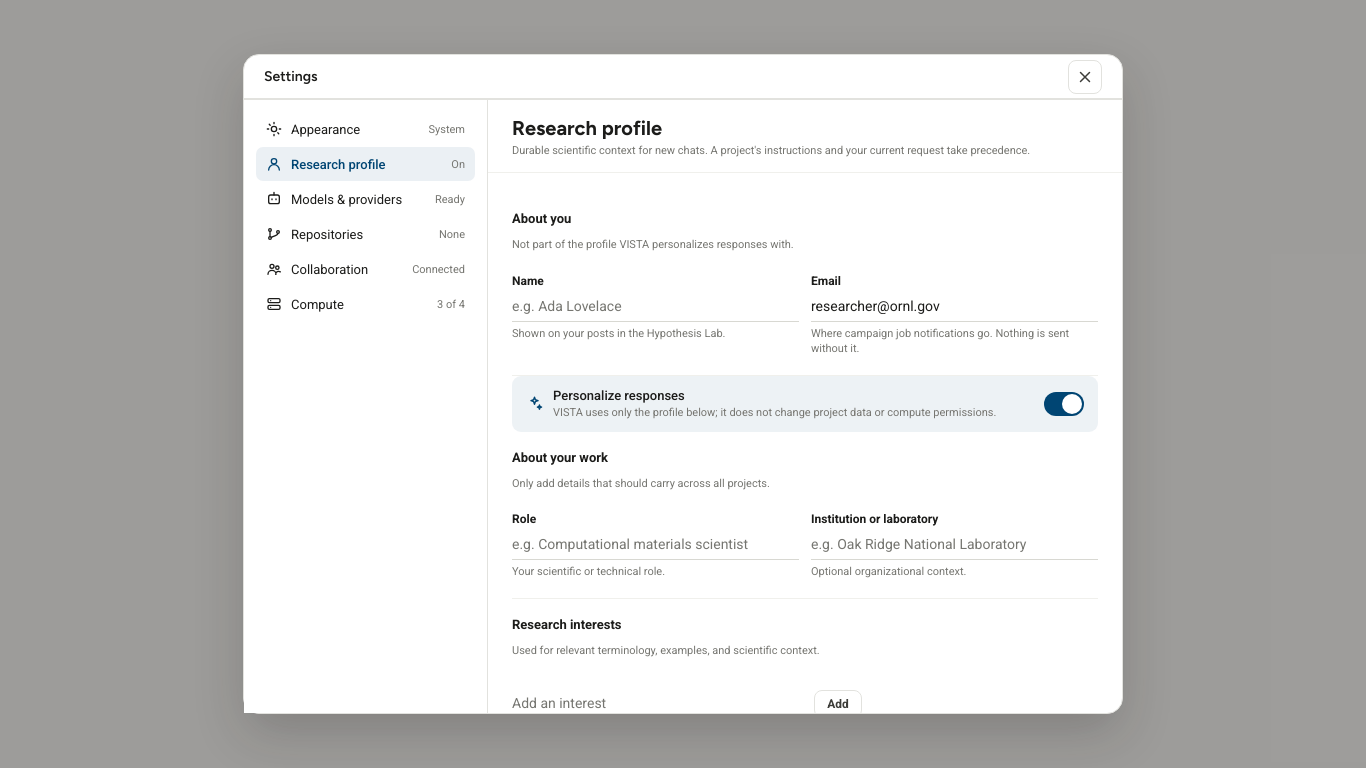
Test case: UserSettingsModal collaboration › shows a connected server
This screenshot has width=1366, height=768.
Click the button "Collaboration Connected". click: click(366, 269)
box: [256,252,475,286]
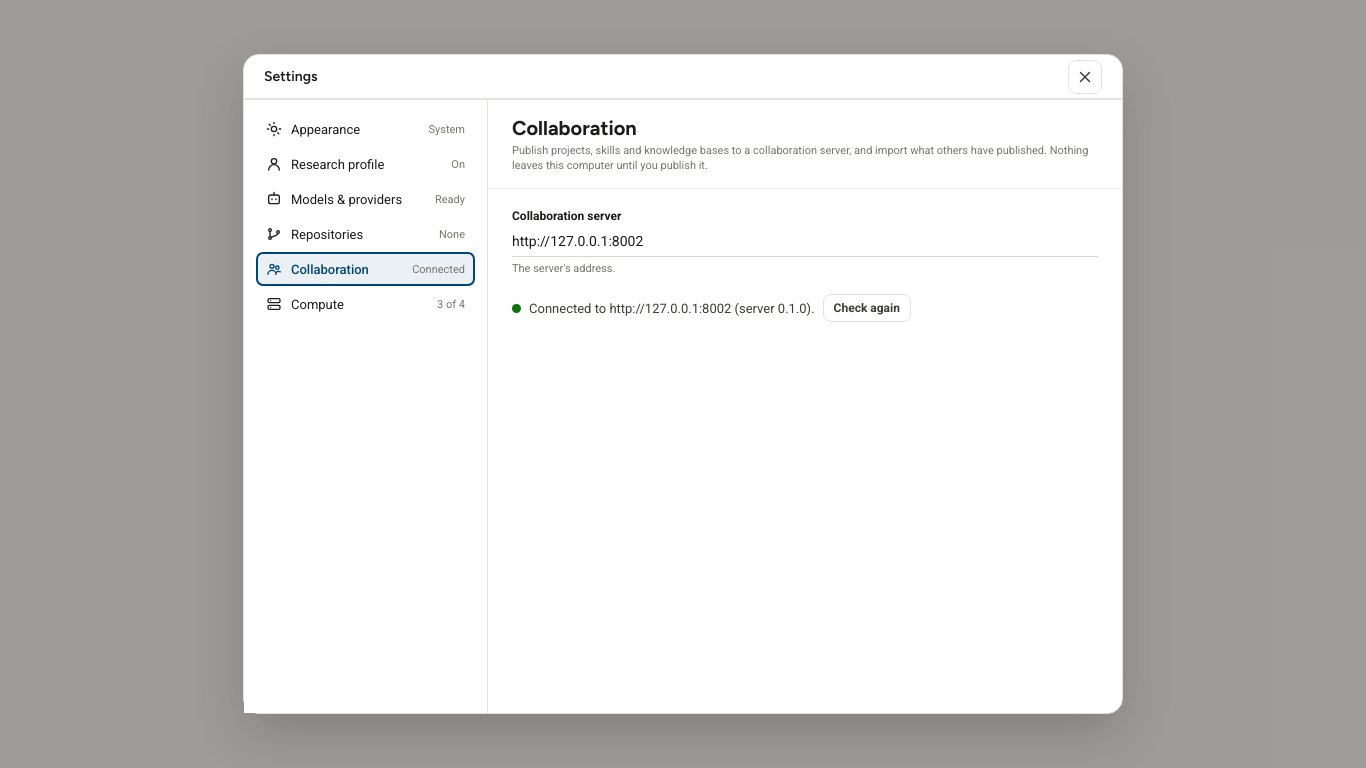
Result: the field labelled "Collaboration server The server's address." holds "http://127.0.0.1:8002" at [512,227,1098,257]
Result: the element "Collaboration" shows "Connected to http://127.0.0.1:8002 (server 0.1.0)." at [529,301,815,316]
